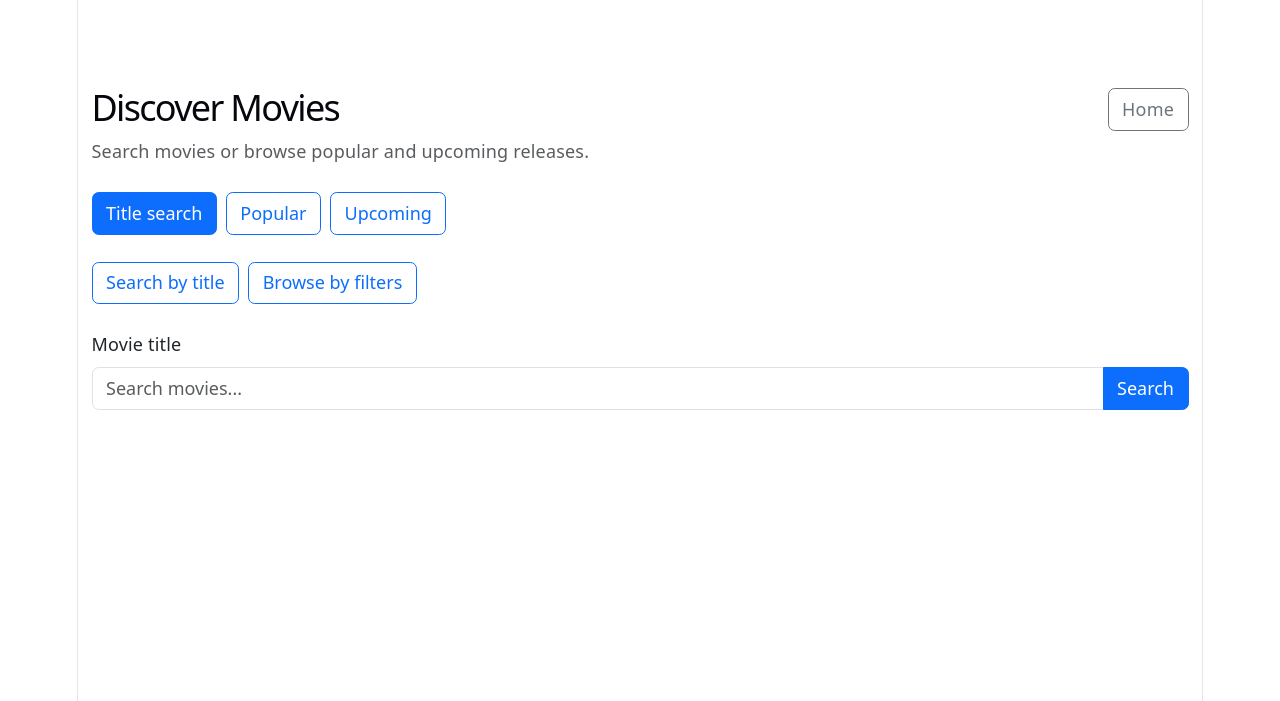
Test: loads and paginates both categories using provider detail links
The width and height of the screenshot is (1280, 701).
What coordinates should you click on to do the following:
click the button "Popular"
I would click on:
 (273, 213)
Its box is [226, 192, 321, 235].
(page scrolled)
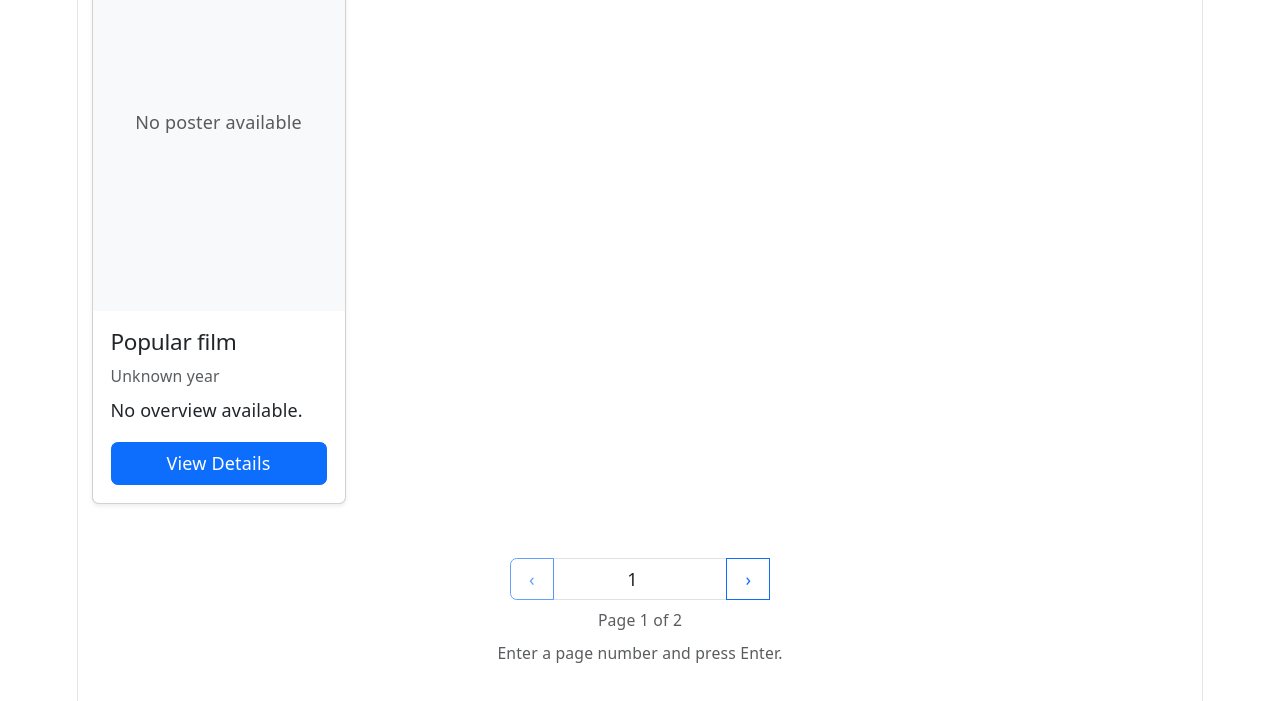
Expected: the button named "Previous" is disabled, [510, 558, 554, 600]
What coordinates should you click on to do the following:
click the button named "Next"
I would click on:
 (748, 579)
Its box is [726, 558, 770, 600].
(page scrolled)
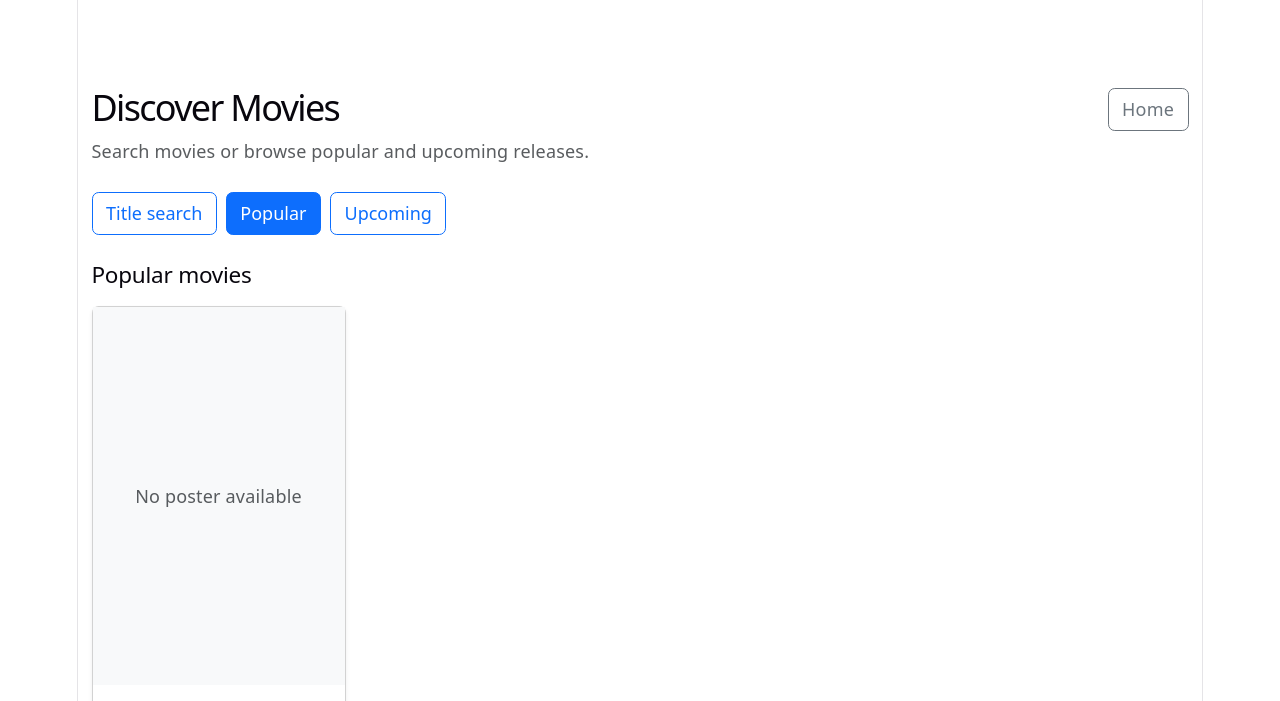
What coordinates should you click on to do the following:
click the button "Upcoming"
I would click on:
 (388, 213)
Its box is [330, 192, 446, 235].
(page scrolled)
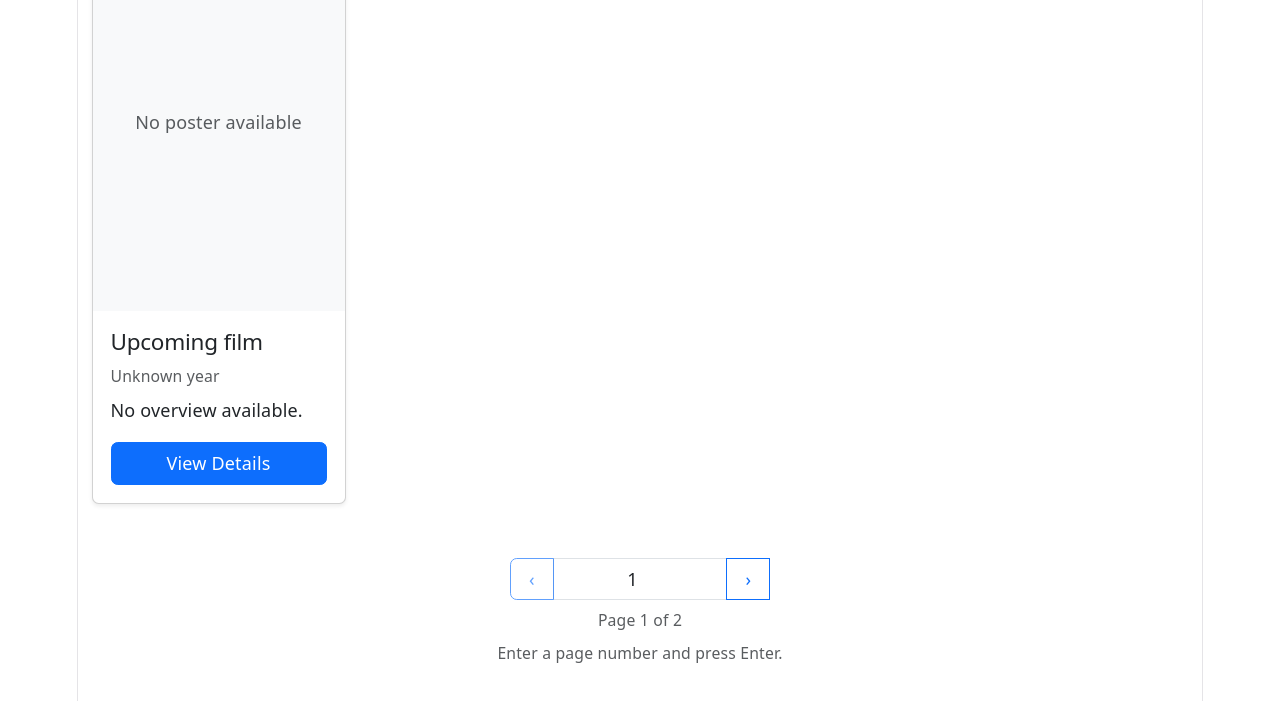
Expected: the heading "Upcoming film" is shown, [110, 326, 263, 357]
What coordinates should you click on to do the following:
click the button named "Next"
I would click on:
 (748, 579)
Its box is [726, 558, 770, 600].
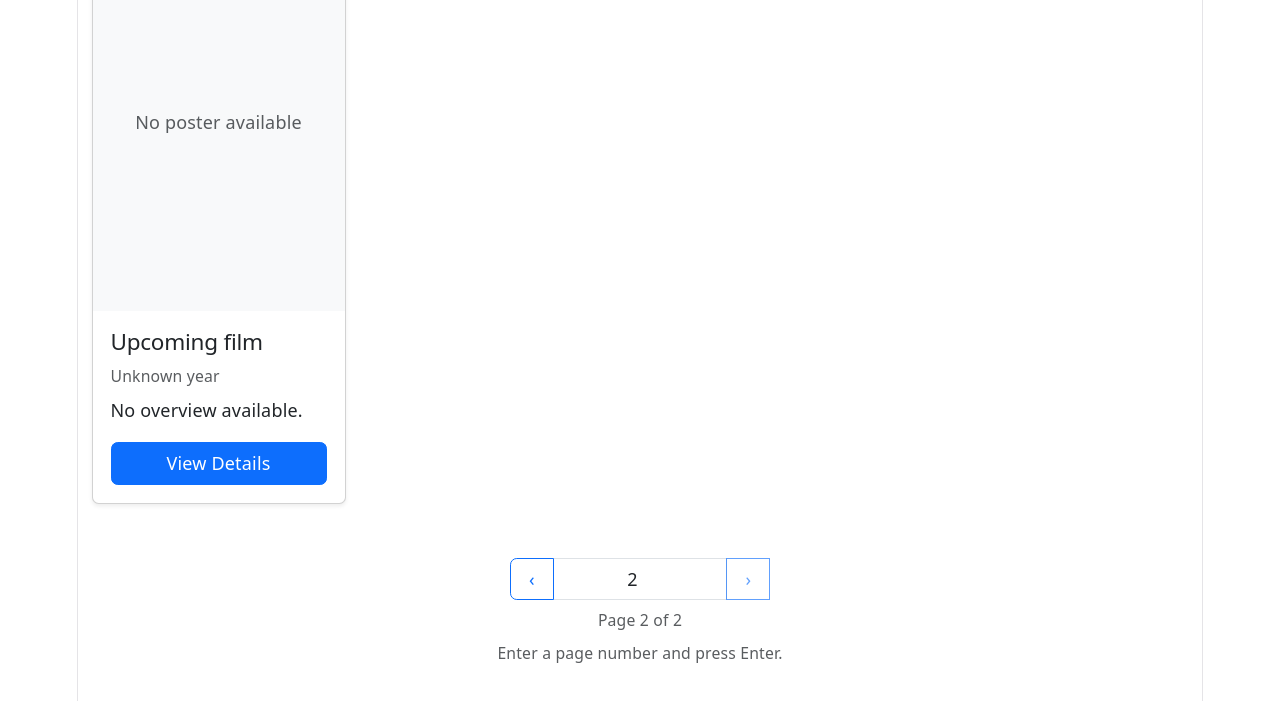
Expected: the text "Page 2 of 2" is shown, [598, 609, 682, 633]
